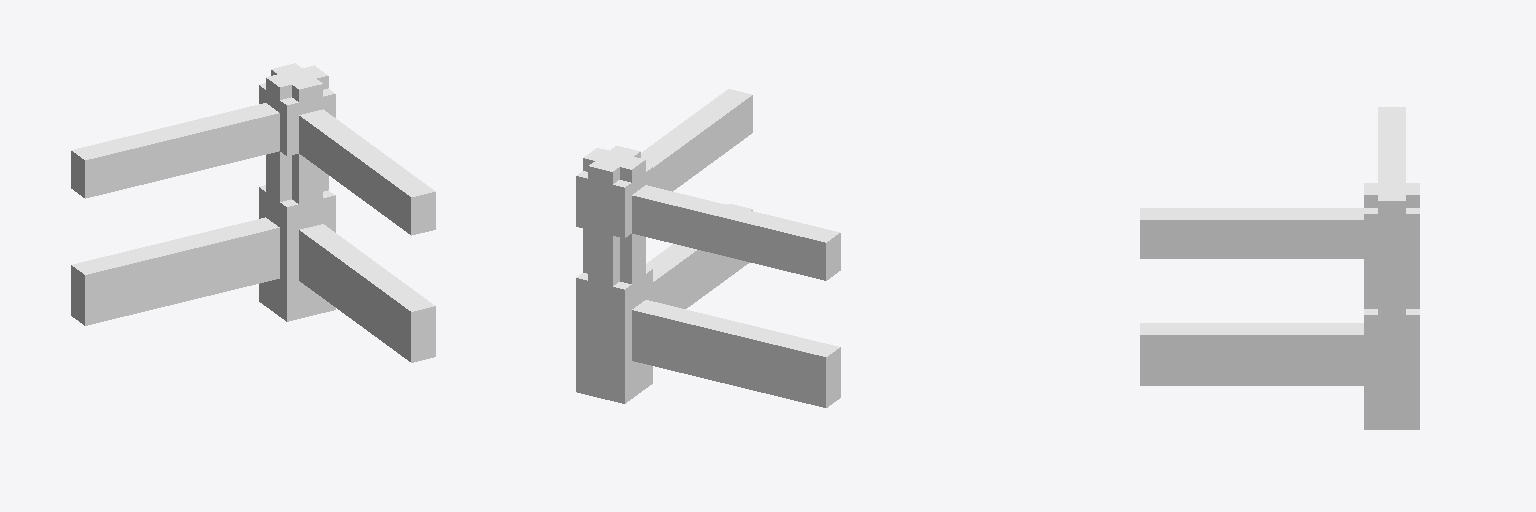
The model's file is fence_corner.obj.
The picture shows the model from 3 angles: view 1: azimuth 30°, elevation 25°; view 2: azimuth 150°, elevation 25°; view 3: azimuth 270°, elevation 25°; orthographic projection.
Visible parts, largest first — view 1: object 1; view 2: object 1; view 3: object 1.
Part boxes in pixels (x1,y1,x2,y2): object 1: (71, 63, 435, 362); object 1: (576, 89, 840, 407); object 1: (1140, 107, 1419, 429).
Size of the model in its own units: 2 by 1.8 by 2.